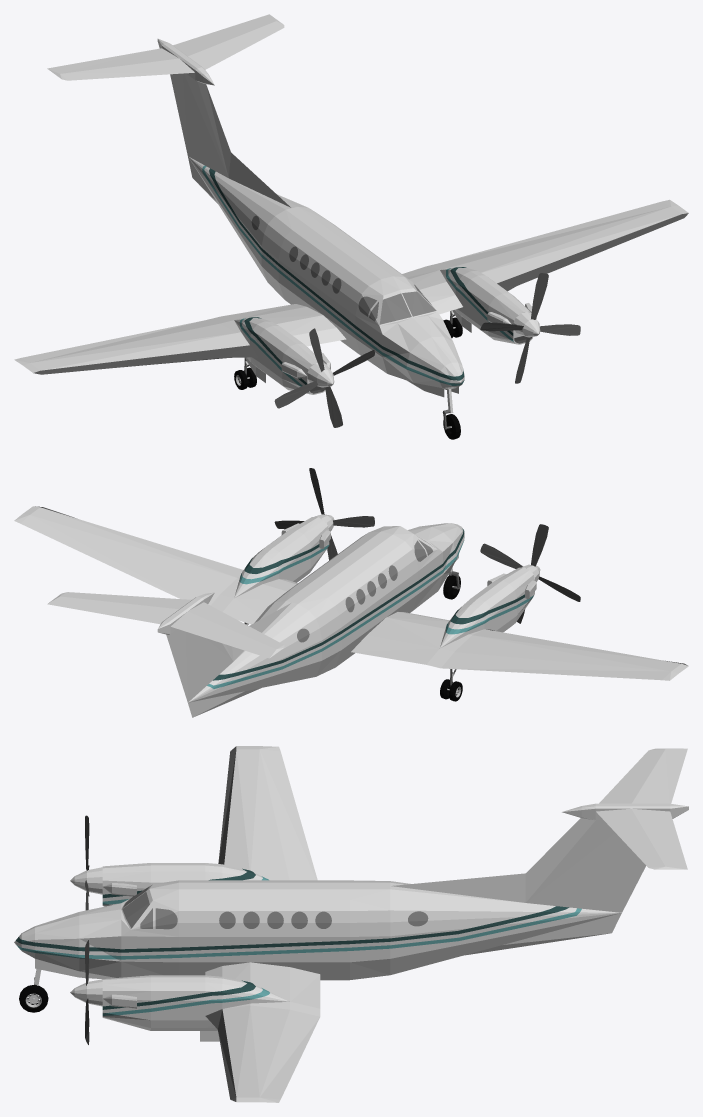
File: Beech+King+Air+200.glb
The picture shows the model from 3 angles, top to bottom: view 1: azimuth 30°, elevation 25°; view 2: azimuth 150°, elevation 25°; view 3: azimuth 270°, elevation 25°; orthographic projection. The views are drawn at different scales.
Parts seen in each view (by area): view 1: _C-Group#81 (Loose Mesh).001, _C-Group#81 (Loose Mesh); view 2: _C-Group#81 (Loose Mesh).001, _C-Group#81 (Loose Mesh), C-Group#77.006, C-Group#77.007, C-Group#77.002; view 3: _C-Group#81 (Loose Mesh), _C-Group#81 (Loose Mesh).001, G-Object, _G-Object.001 (Loose Mesh), _G-Object.007 (Loose Mesh).
Part boxes in pixels (bbox=[...]): _C-Group#81 (Loose Mesh).001: bbox=[14, 39, 460, 394]; _C-Group#81 (Loose Mesh): bbox=[159, 14, 688, 386]; _C-Group#81 (Loose Mesh).001: bbox=[157, 523, 688, 717]; _C-Group#81 (Loose Mesh): bbox=[14, 506, 449, 717]; C-Group#77.006: bbox=[480, 543, 522, 568]; C-Group#77.007: bbox=[531, 524, 548, 566]; C-Group#77.002: bbox=[333, 516, 374, 527]; _C-Group#81 (Loose Mesh): bbox=[14, 805, 688, 1102]; _C-Group#81 (Loose Mesh).001: bbox=[16, 746, 687, 944]; G-Object: bbox=[34, 958, 115, 985]; _G-Object.001 (Loose Mesh): bbox=[70, 979, 102, 1006]; _G-Object.007 (Loose Mesh): bbox=[70, 867, 102, 894].
Bounding box in the file's own units: 16.61 × 4.5 × 13.3.
